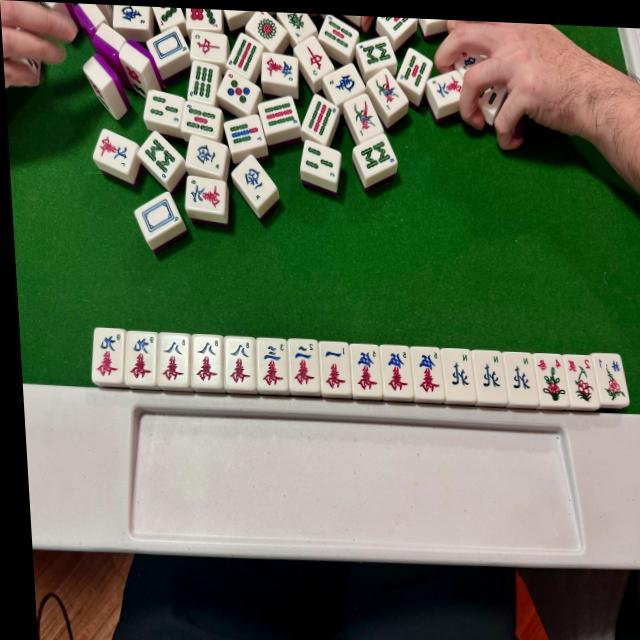f1: (594, 355, 625, 403)
ff2: (566, 357, 598, 406)
ff4: (536, 355, 566, 404)
m1: (321, 345, 349, 392)
m2: (289, 342, 317, 389)
m3: (259, 341, 288, 388)
m5: (411, 350, 441, 396), (351, 348, 380, 393), (383, 349, 411, 394)
m8: (159, 336, 189, 383), (192, 338, 222, 385), (225, 340, 255, 386)
m9: (92, 331, 123, 379), (125, 335, 156, 382)
north: (507, 354, 534, 400), (444, 352, 472, 396), (476, 354, 503, 398)
